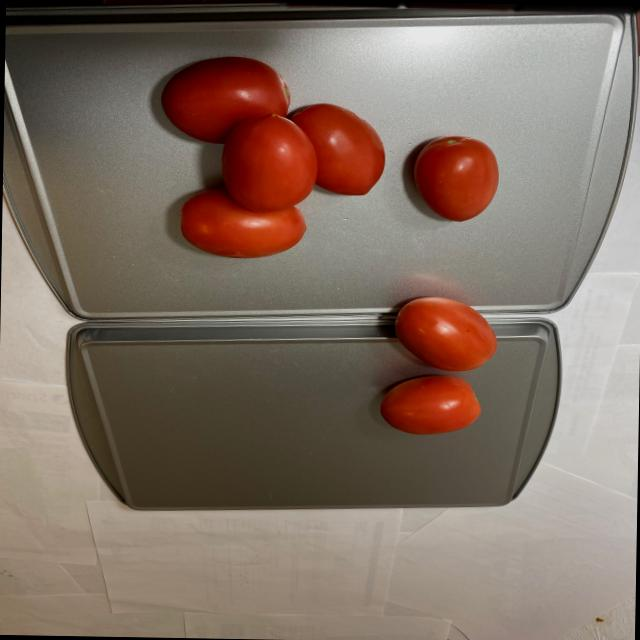tomato: (151, 53, 509, 263), (380, 286, 496, 436)
